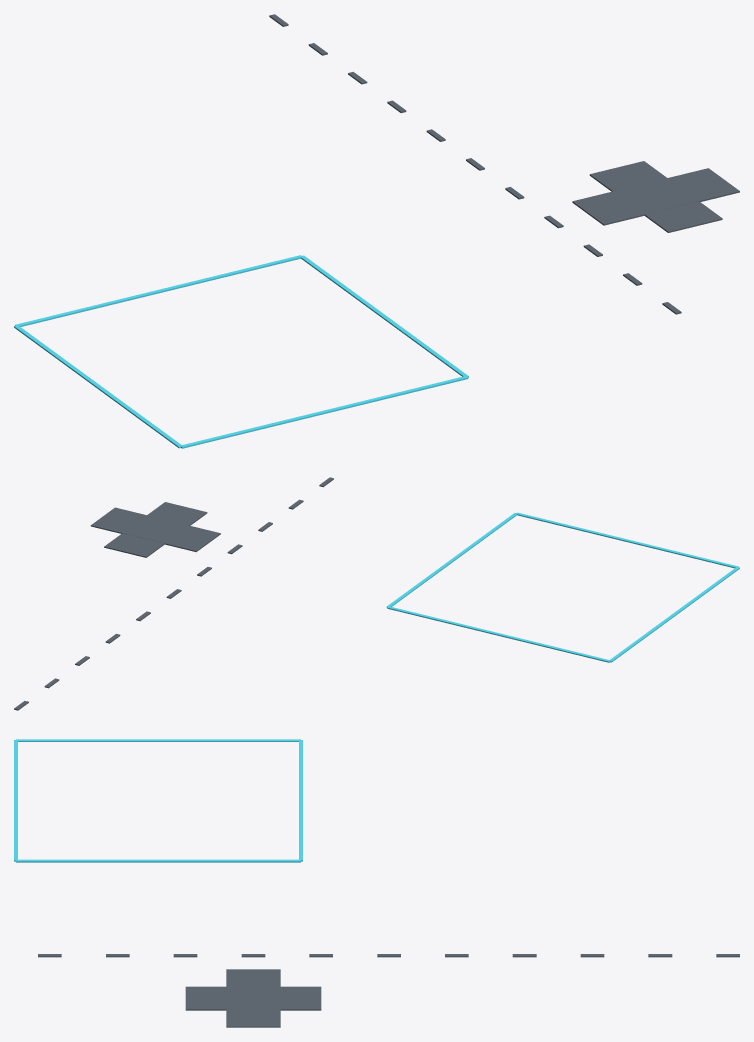
File: 3_Room.fbx
3 renders of one model, top to bottom at view 1: azimuth 30°, elevation 25°; view 2: azimuth 150°, elevation 25°; view 3: azimuth 270°, elevation 25°, orthographic. The views are drawn at different scales.
Parts seen in each view (by area): view 1: Body; view 2: Body; view 3: Body.
Boxes of the visible parts, x1,y1,x2,y2 form: Body: (14, 14, 739, 448); Body: (14, 477, 739, 710); Body: (14, 739, 739, 1027).
Bounding box in the file's own units: 10.03 × 0.022 × 10.71.
